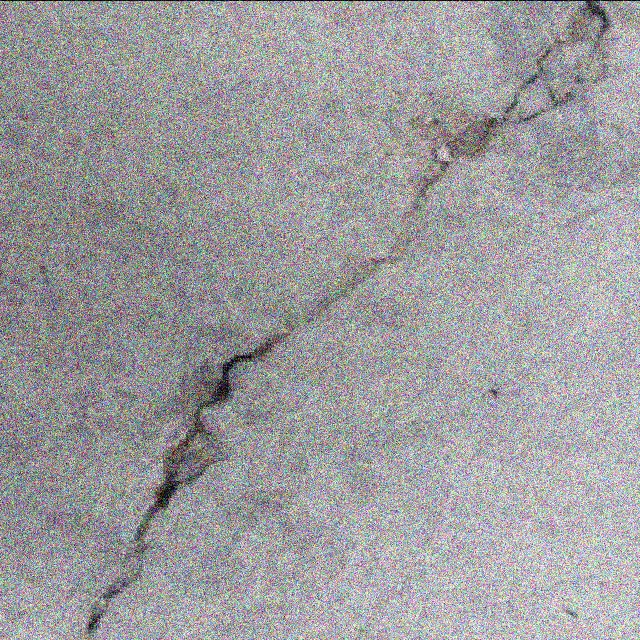SurfaceCrack: (66, 0, 624, 640)
